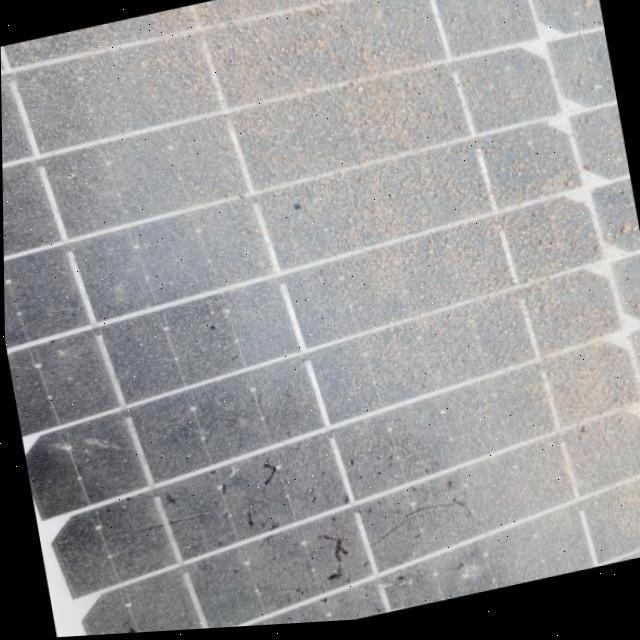Surface Contaminant: (2, 40, 640, 638)
